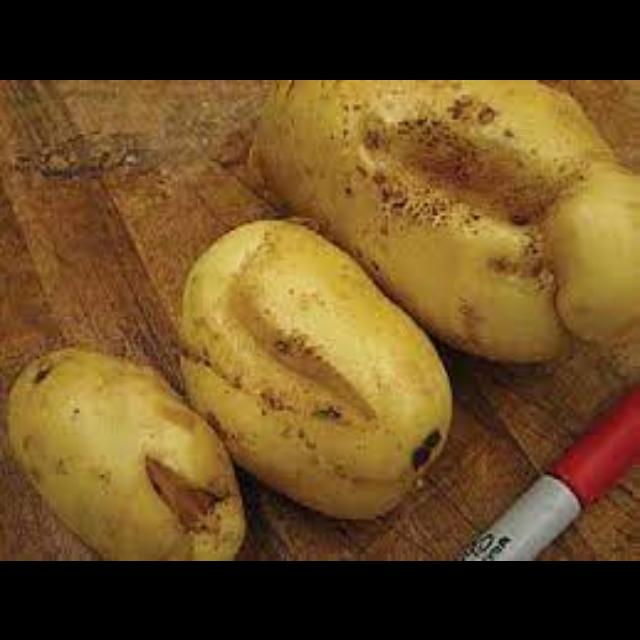Damaged potato: (234, 79, 638, 369), (166, 212, 460, 524), (5, 342, 252, 560)
